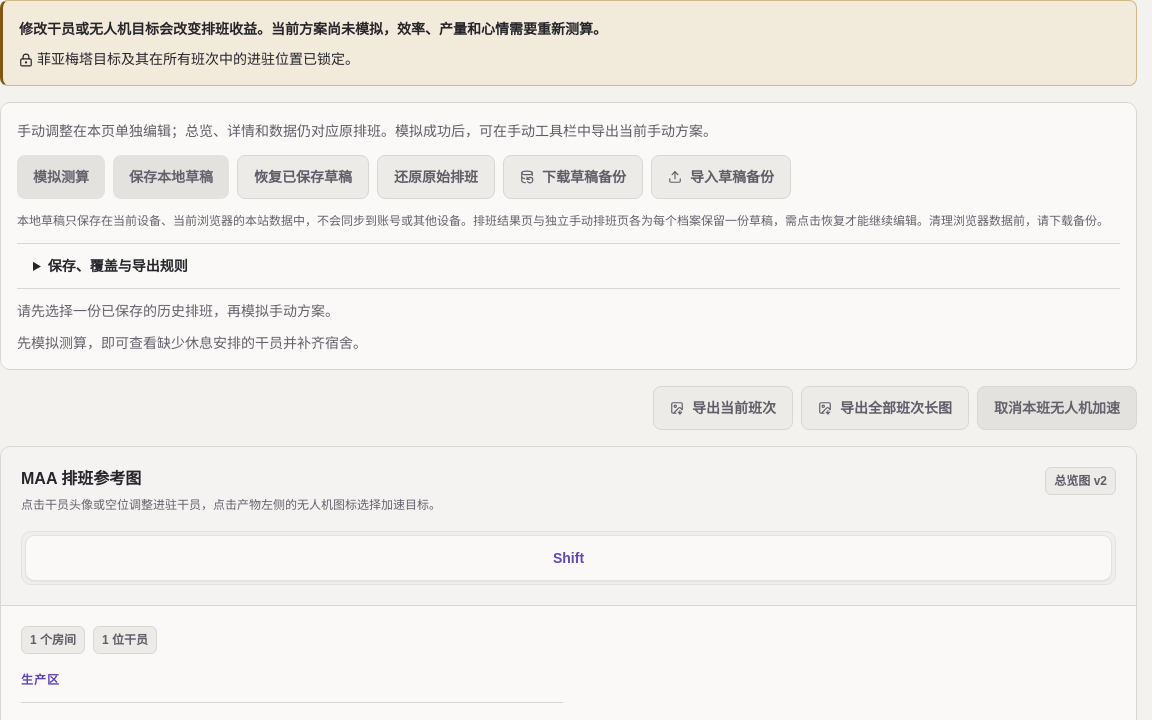
manual simulation lifecycle › clears only the draft at manual when resetting a reopened schedule
Expected: the button "恢复已保存草稿" is enabled, [237,155,369,199]
What coordinates should you click on to do the following:
click the button "还原原始排班"
I would click on:
 (436, 177)
Its box is [377,155,495,199].
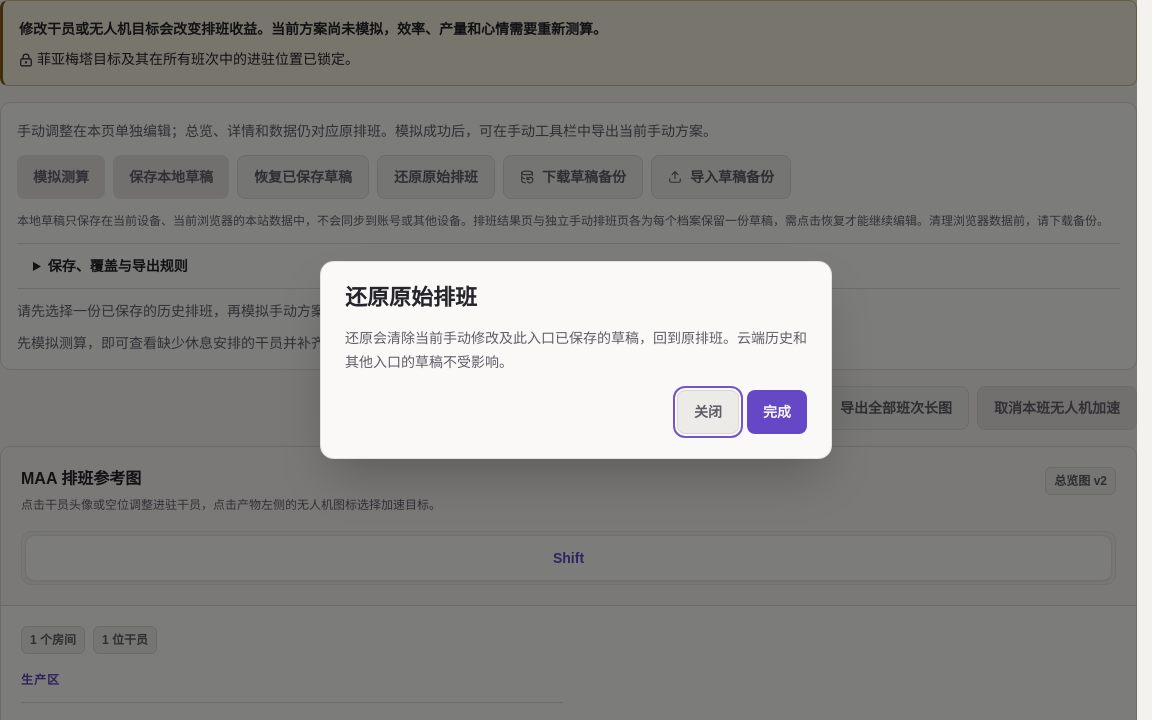
What coordinates should you click on to do the following:
click the button "完成"
I would click on:
 (777, 412)
Its box is [747,390,807,434].
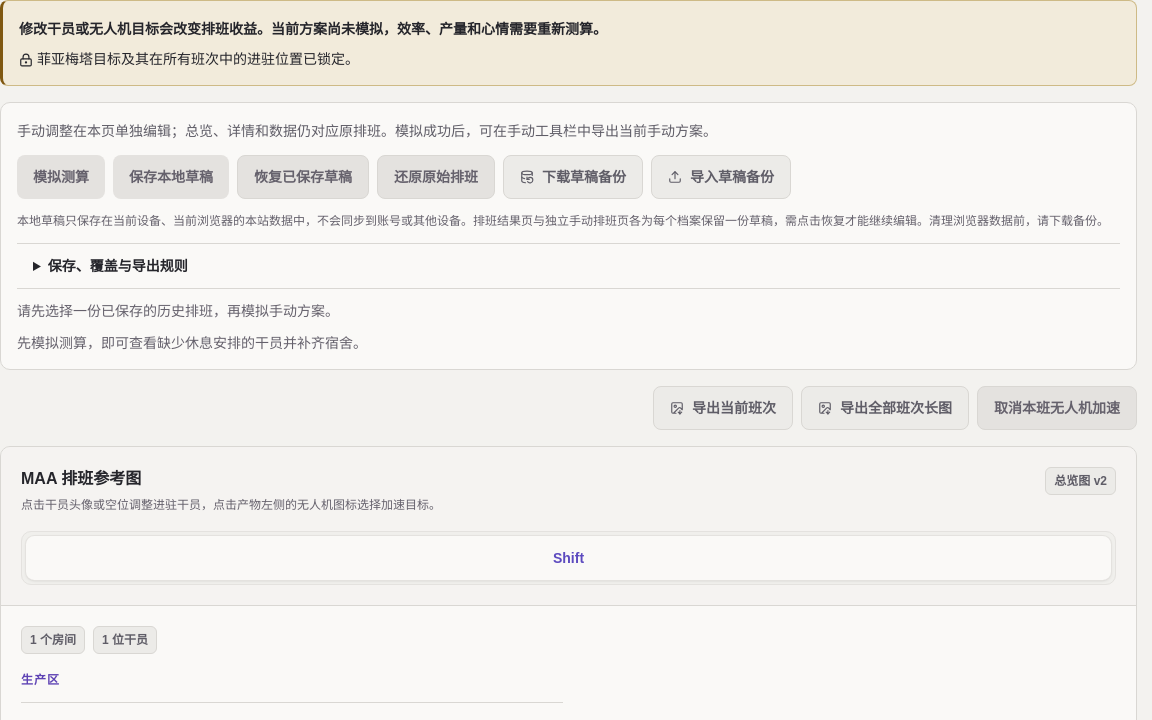
Result: the button "恢复已保存草稿" is disabled at [237,155,369,199]
Result: the button "还原原始排班" is disabled at [377,155,495,199]
